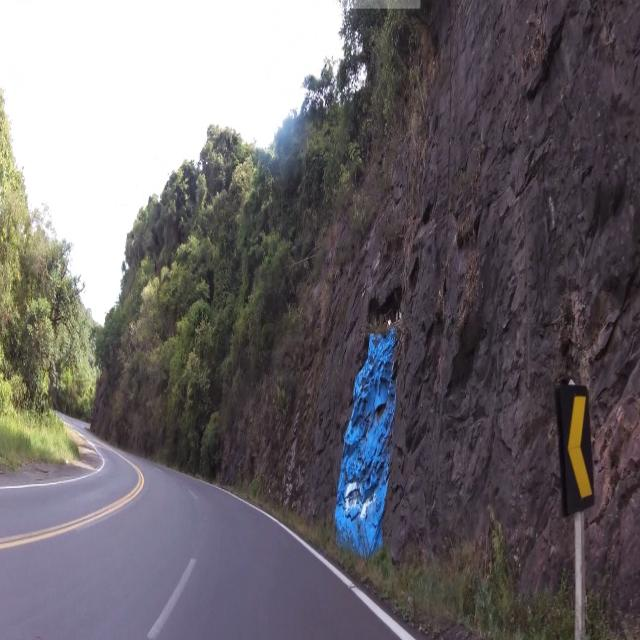Del: (548, 378, 608, 517)
